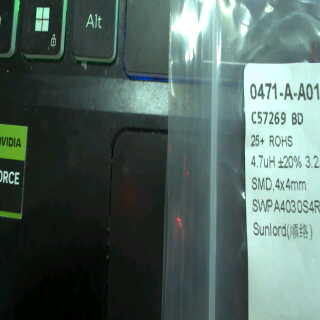4.7uH: (250, 149, 279, 174)
